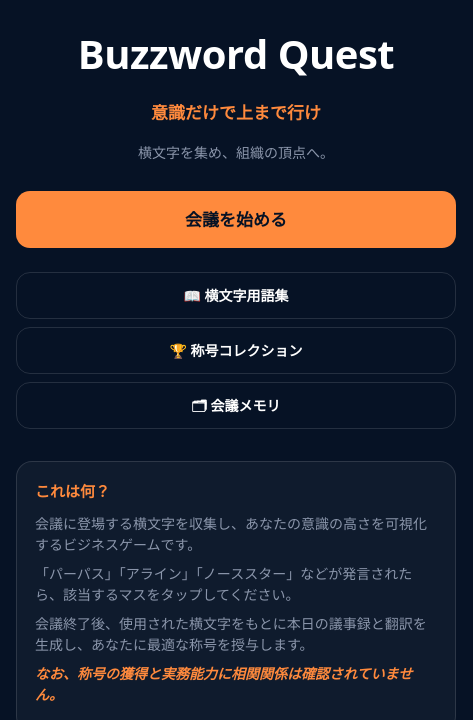
Test: App - title collection reset › shows the reset button in the collection screen
Click the button "🏆 称号コレクション".
click(236, 350)  # box [16,327,456,374]
(page scrolled)
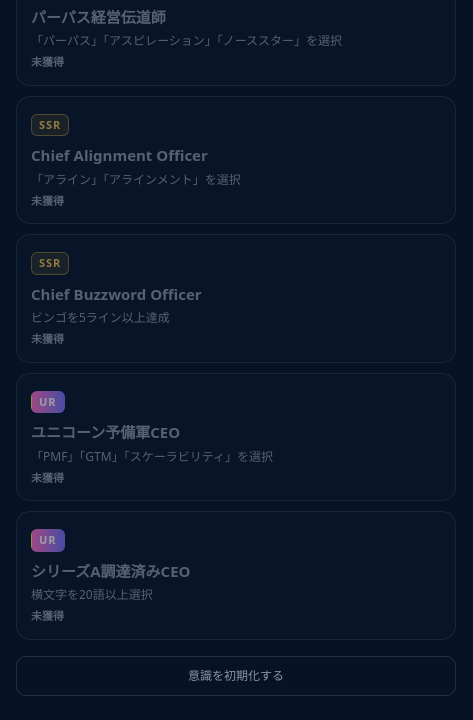
expect the button "意識を初期化する" is shown: met, box [16,656,456,696]
